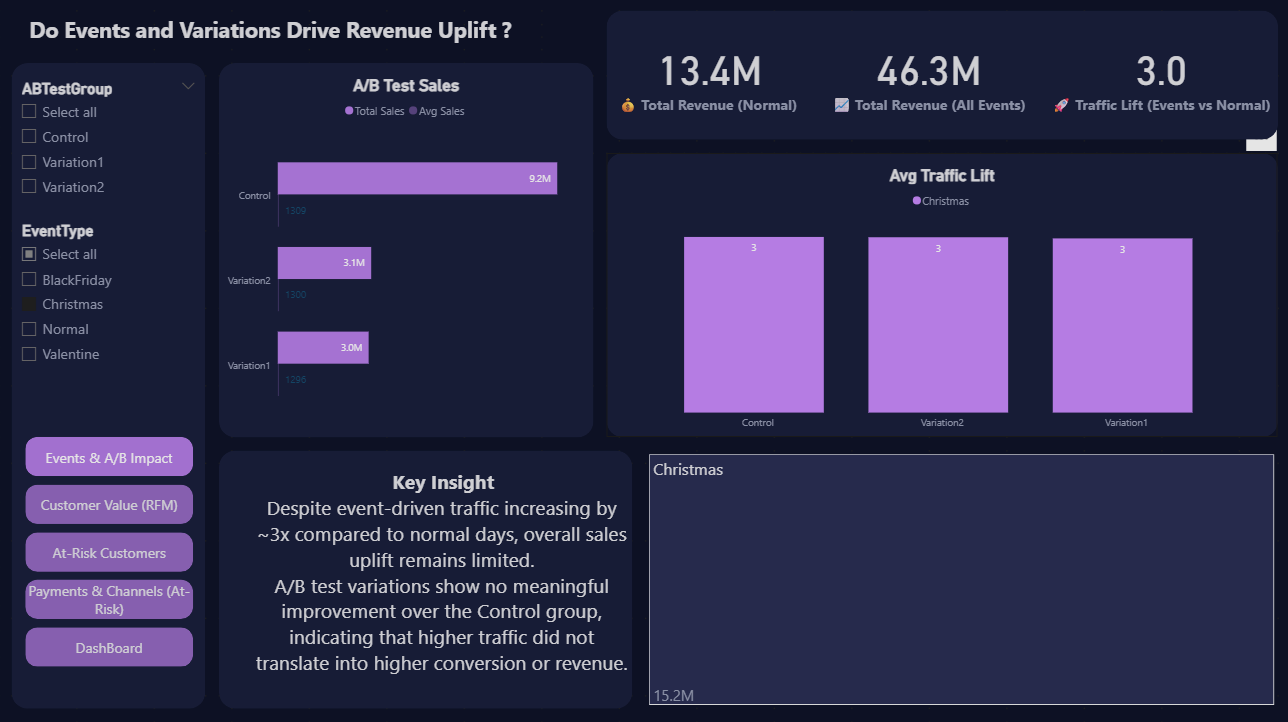

The dashboard page shown, as its layout file describes it:
{"tool":"powerbi","page":{"name":"Events & A/B Impact","canvas":[1600,900],"ordinal":0},"visuals":[{"type":"shape","box":[272,560,512,320],"z":0},{"type":"shape","box":[752,192,832,352],"z":1000},{"type":"shape","box":[752,16,832,160],"z":2000},{"type":"shape","box":[16,80,240,800],"z":3000},{"type":"shape","box":[272,80,464,464],"z":4000},{"type":"treemap","title":"Total Sales ","fields":{"Values":["Sum(transactions.SaleAmountEUR)"],"Group":["transactions.EventType","transactions.ABTestGroup"]},"box":[800,560,784,320],"z":5000},{"type":"clusteredBarChart","title":"A/B Test Sales","fields":{"Category":["transactions.ABTestGroup"],"Y":["Sum(transactions.SaleAmountEUR)","Avg(transactions.SaleAmountEUR)"]},"box":[272,96,464,448],"z":6000},{"type":"clusteredColumnChart","title":"Avg Traffic Lift","fields":{"Category":["transactions.ABTestGroup"],"Y":["Avg(transactions.TrafficMultiplier)"],"Series":["transactions.EventType"]},"box":[752,208,832,336],"z":7000},{"type":"card","fields":{"Values":["Measure Table (2).TrafficEventToNormal"]},"box":[1296,16,288,160],"z":8000},{"type":"slicer","fields":{"Values":["transactions.ABTestGroup"]},"box":[16,96,240,160],"z":10000},{"type":"slicer","fields":{"Values":["transactions.EventType"]},"box":[16,272,240,208],"z":11000},{"type":"card","fields":{"Values":["Measure Table.Total Sales (Normal)"]},"box":[752,16,256,160],"z":12000},{"type":"card","fields":{"Values":["Measure Table.Total Sales (Events)"]},"box":[1008,16,288,160],"z":13000},{"type":"textbox","box":[32,16,672,64],"z":14000},{"type":"textbox","box":[272,560,512,320],"z":15000},{"type":"pageNavigator","box":[32,544,208,288],"z":15005}]}

Visuals, with their boxes in screenshot pixels (x1, y1, x2, y2), scaled from the page's 1600x900 canvas onto the 1288x722 screenshot:
shape: {"left": 219, "top": 449, "right": 631, "bottom": 706}
shape: {"left": 605, "top": 154, "right": 1275, "bottom": 436}
shape: {"left": 605, "top": 13, "right": 1275, "bottom": 141}
shape: {"left": 13, "top": 64, "right": 206, "bottom": 706}
shape: {"left": 219, "top": 64, "right": 592, "bottom": 436}
"Total Sales " treemap: {"left": 644, "top": 449, "right": 1275, "bottom": 706}
"A/B Test Sales" clusteredBarChart: {"left": 219, "top": 77, "right": 592, "bottom": 436}
"Avg Traffic Lift" clusteredColumnChart: {"left": 605, "top": 167, "right": 1275, "bottom": 436}
card - Measure Table (2).TrafficEventToNormal: {"left": 1043, "top": 13, "right": 1275, "bottom": 141}
slicer - transactions.ABTestGroup: {"left": 13, "top": 77, "right": 206, "bottom": 205}
slicer - transactions.EventType: {"left": 13, "top": 218, "right": 206, "bottom": 385}
card - Measure Table.Total Sales (Normal): {"left": 605, "top": 13, "right": 811, "bottom": 141}
card - Measure Table.Total Sales (Events): {"left": 811, "top": 13, "right": 1043, "bottom": 141}
textbox: {"left": 26, "top": 13, "right": 567, "bottom": 64}
textbox: {"left": 219, "top": 449, "right": 631, "bottom": 706}
pageNavigator: {"left": 26, "top": 436, "right": 193, "bottom": 667}
